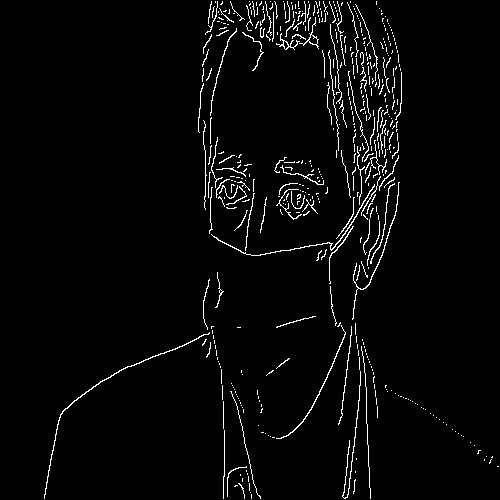mask: (193, 237, 348, 436)
